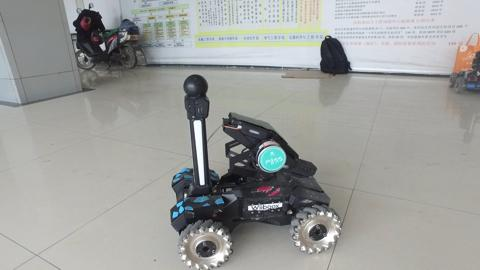bag: (317, 32, 354, 80), (453, 28, 479, 76)
chariot: (169, 72, 344, 270), (448, 47, 480, 95)
